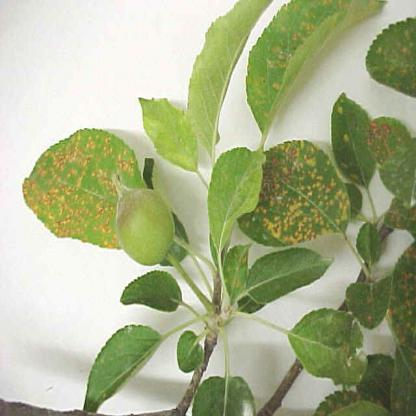Apple rust leaf: (220, 2, 391, 152), (16, 120, 155, 257), (252, 133, 359, 247), (324, 87, 411, 211), (338, 263, 391, 339)
